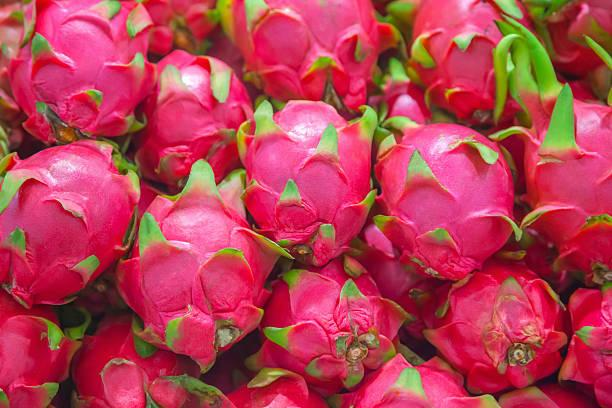dragon fruit: (128, 153, 275, 363), (8, 0, 158, 155), (1, 137, 134, 310), (385, 114, 519, 278), (245, 96, 372, 264), (409, 251, 568, 385), (245, 253, 403, 383), (128, 46, 259, 198), (230, 0, 390, 108), (403, 0, 537, 125), (531, 106, 612, 292), (62, 305, 194, 408), (343, 350, 512, 408), (1, 300, 79, 408), (567, 290, 612, 408), (212, 364, 323, 408)
